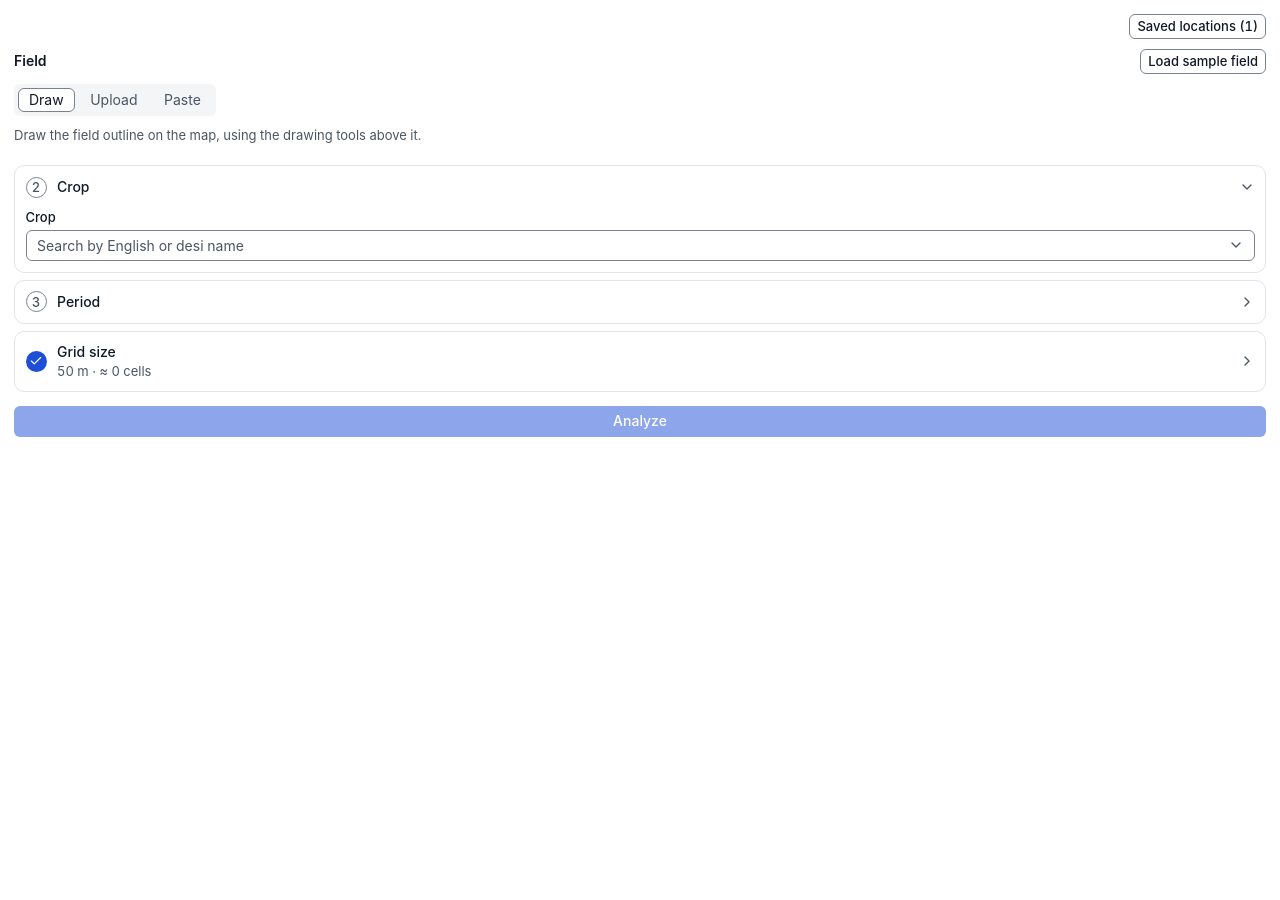
Test: SetupSlot › saved locations › opens a saved location, closes the dialog and puts its field on the map
The width and height of the screenshot is (1280, 900).
Step 1. Click the button "Saved locations (1)" → point(1198, 26), box [1129, 14, 1266, 38]
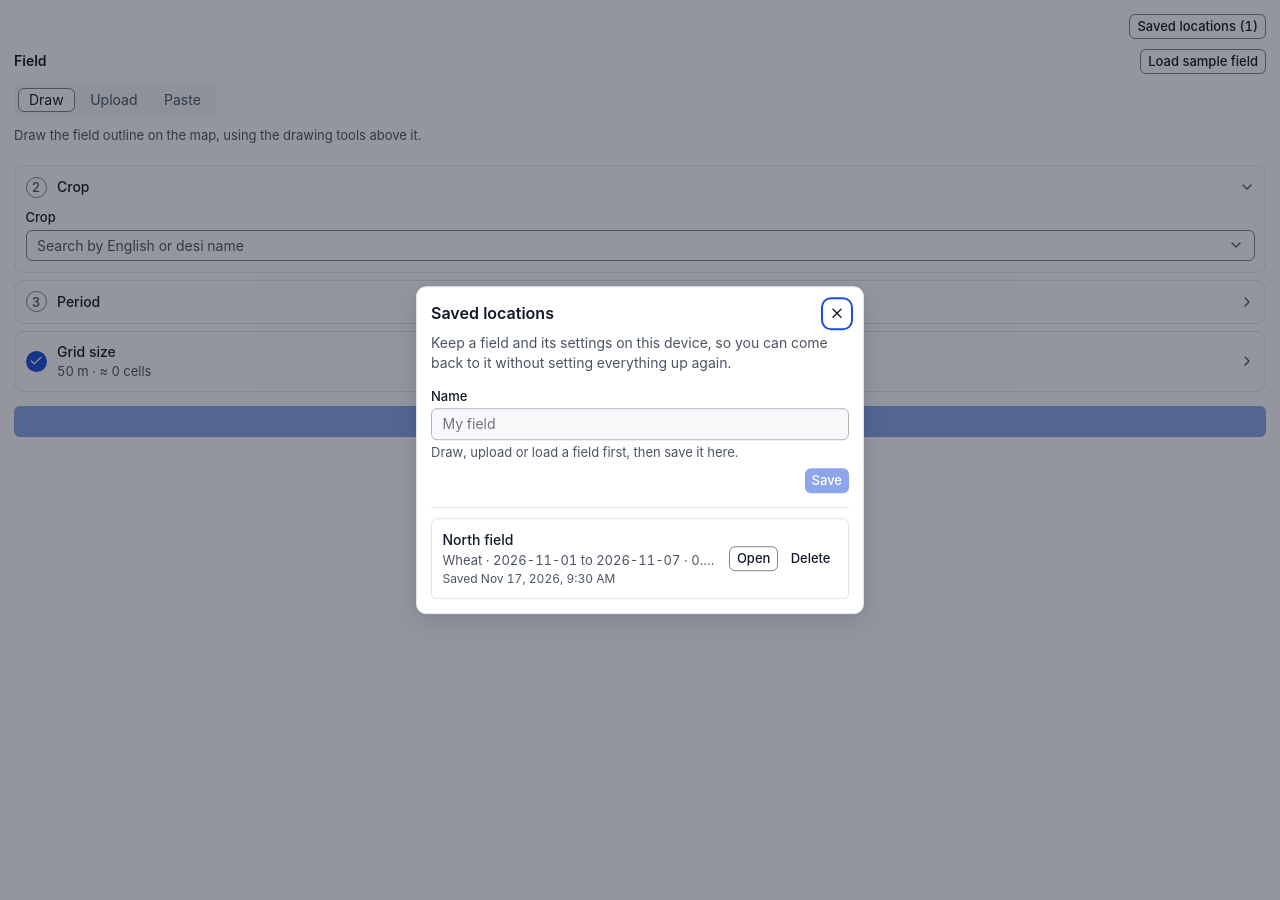
Step 2. Click the button with aria-label "Open North field" → point(754, 559), box [729, 546, 778, 571]
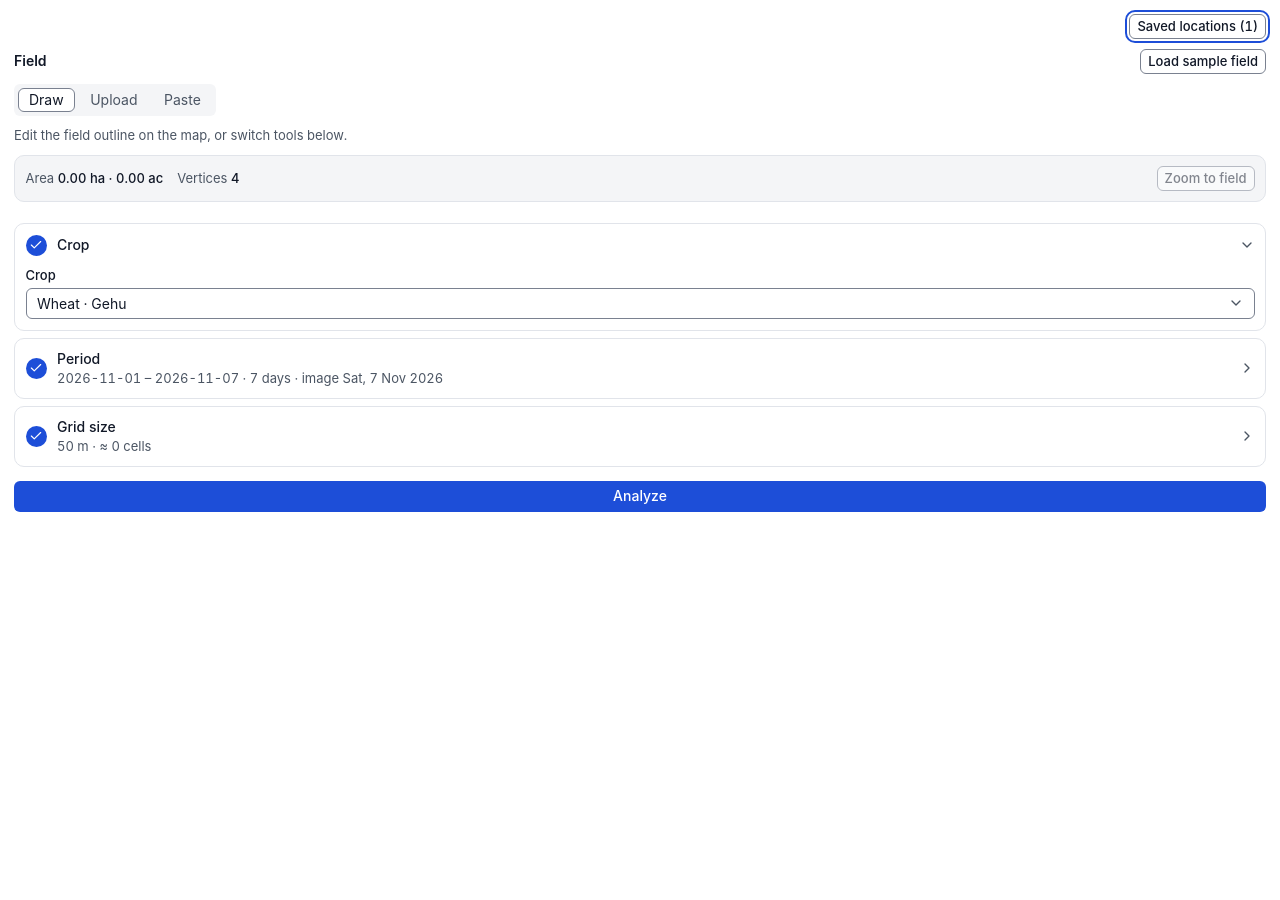
Now the dialog is gone
